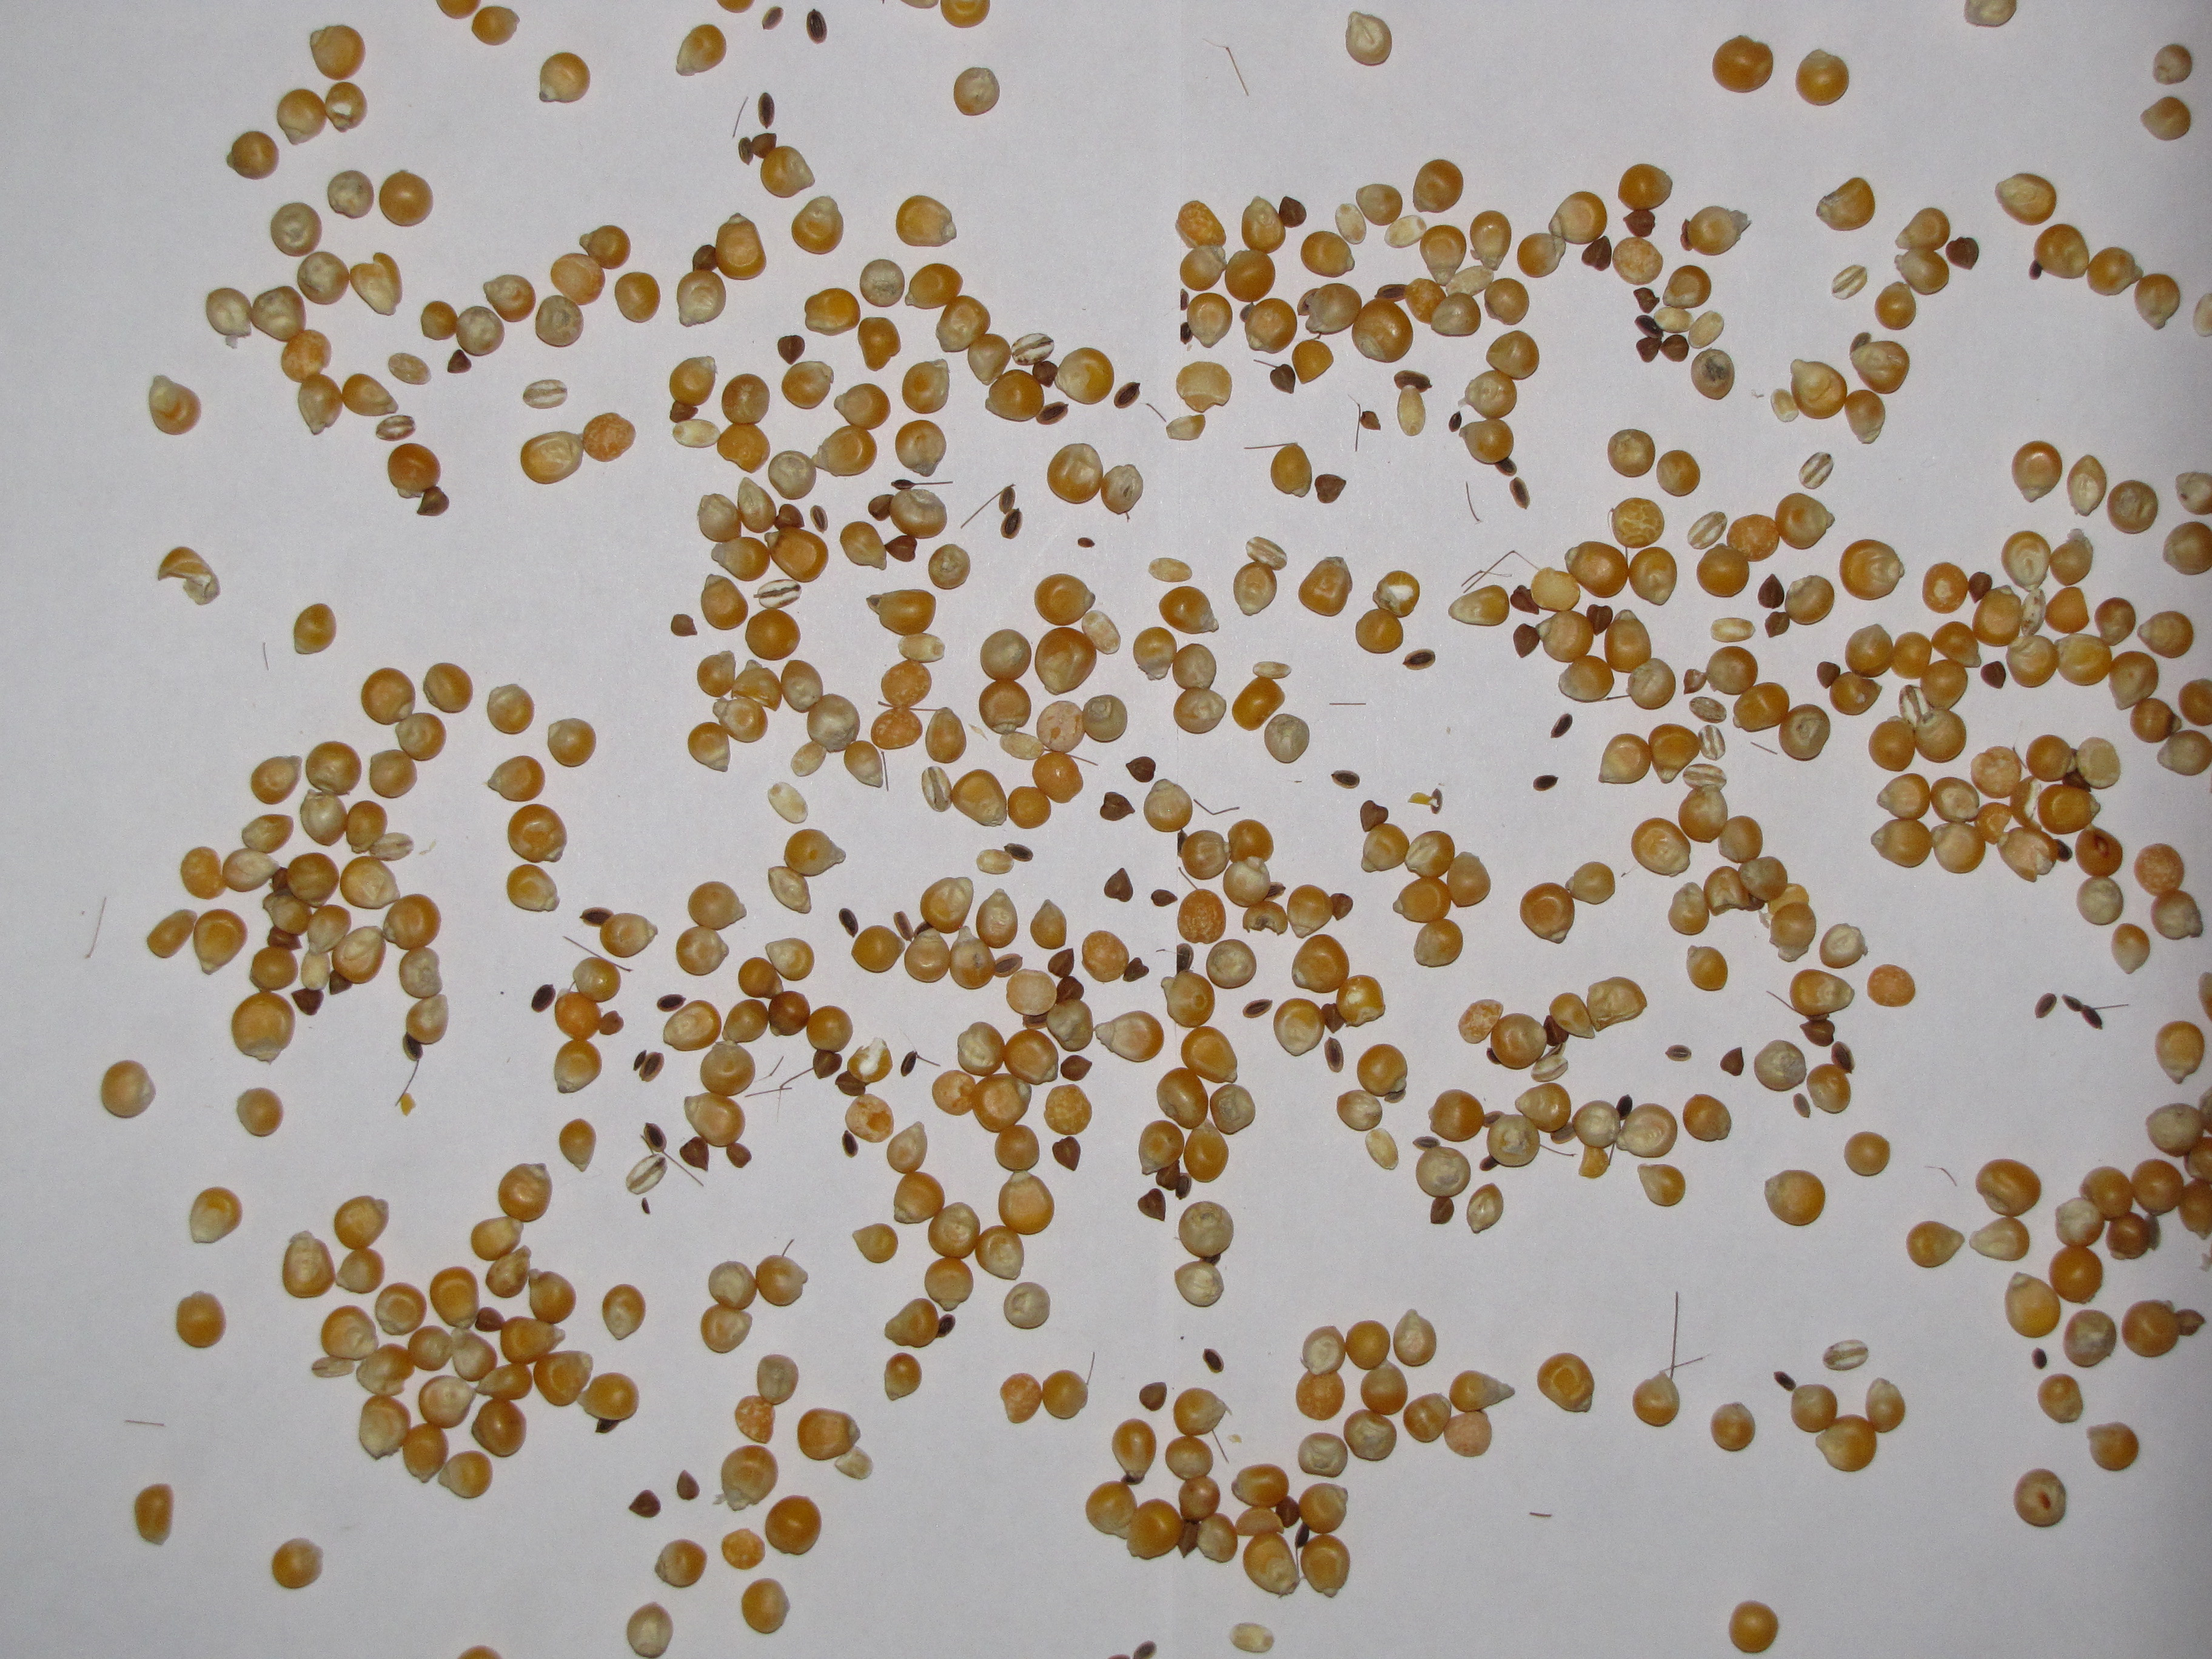mais: (1244, 443, 1312, 498), (1177, 868, 1226, 945), (158, 547, 221, 606), (1176, 361, 1233, 413), (1158, 586, 1219, 634), (2106, 479, 2158, 535), (270, 202, 322, 258), (740, 1577, 791, 1635), (895, 420, 946, 477), (1905, 1220, 1965, 1269), (1754, 1039, 1806, 1093), (700, 573, 749, 631), (1447, 584, 1510, 627), (538, 52, 590, 105), (1413, 159, 1463, 213), (902, 359, 951, 415), (805, 288, 860, 336), (676, 24, 726, 77), (423, 662, 474, 714), (1205, 939, 1258, 990), (482, 274, 536, 322), (780, 361, 834, 410), (507, 864, 561, 913), (1299, 230, 1355, 277), (1345, 10, 1392, 66), (1393, 369, 1432, 437), (488, 756, 545, 802), (1393, 1309, 1437, 1368), (547, 718, 597, 769), (2066, 455, 2107, 516), (486, 683, 535, 735), (655, 1539, 707, 1588), (1043, 1084, 1092, 1136), (601, 1284, 646, 1340), (1683, 1094, 1731, 1143), (1608, 429, 1656, 477), (327, 169, 374, 220), (953, 66, 1000, 117), (857, 317, 900, 371), (1691, 347, 1735, 401), (2141, 96, 2191, 141), (1818, 924, 1869, 969), (1710, 1401, 1756, 1452), (1264, 713, 1310, 763), (2038, 1373, 2083, 1424), (1298, 1432, 1348, 1478), (615, 272, 660, 322), (293, 603, 336, 655), (859, 260, 906, 307), (1003, 1283, 1050, 1330), (1637, 1162, 1686, 1208), (1656, 450, 1702, 497), (1355, 183, 1404, 227), (1867, 964, 1916, 1007), (559, 1119, 597, 1173), (1844, 1131, 1890, 1176), (2111, 924, 2151, 974), (928, 544, 970, 591), (1686, 945, 1728, 992), (472, 5, 521, 45), (1029, 899, 1068, 950), (852, 1223, 899, 1263), (885, 1352, 923, 1401), (1467, 1183, 1503, 1234), (1688, 511, 1728, 551), (2062, 993, 2102, 1030), (1254, 359, 1296, 394), (1355, 404, 1381, 451), (1710, 617, 1756, 643), (1226, 47, 1249, 96), (1148, 558, 1193, 582), (1946, 237, 1979, 270), (1099, 791, 1136, 821), (2038, 566, 2066, 605), (900, 1051, 941, 1077), (1165, 415, 1205, 441), (1104, 868, 1134, 903), (1052, 1136, 1082, 1171), (1757, 573, 1785, 610), (1689, 695, 1726, 723), (376, 415, 415, 441), (1313, 474, 1346, 504), (1407, 788, 1444, 814), (740, 523, 779, 547), (1137, 1188, 1165, 1222), (629, 1490, 660, 1518), (777, 335, 805, 364), (1139, 1382, 1167, 1412), (1125, 756, 1157, 782), (1061, 1054, 1092, 1080), (2034, 620, 2069, 643), (1113, 382, 1141, 410), (1719, 1047, 1745, 1077), (1973, 786, 2010, 807), (1324, 1037, 1345, 1073), (1402, 648, 1435, 671), (1193, 800, 1240, 816), (1980, 660, 2006, 688), (806, 9, 827, 44), (678, 1469, 700, 1500), (1587, 629, 1608, 662), (1510, 476, 1531, 509), (1634, 288, 1660, 314), (531, 985, 556, 1012), (890, 479, 953, 490), (1242, 999, 1273, 1019), (758, 92, 775, 129), (838, 908, 859, 938), (448, 349, 472, 373), (1550, 713, 1573, 739), (2034, 993, 2057, 1019), (671, 613, 697, 636), (657, 993, 686, 1012), (1331, 770, 1360, 789), (761, 5, 784, 30), (1202, 1349, 1224, 1373), (810, 505, 829, 533), (841, 1129, 859, 1159), (1792, 1093, 1811, 1119), (1151, 889, 1177, 908), (1773, 1371, 1796, 1391), (1533, 775, 1559, 791), (2130, 1197, 2148, 1220), (1146, 403, 1165, 422), (941, 931, 958, 951), (2003, 816, 2022, 833), (1750, 742, 1777, 755), (632, 1049, 646, 1070), (881, 751, 888, 791), (1449, 411, 1461, 432), (768, 1060, 782, 1077), (333, 103, 352, 115), (1298, 1546, 1305, 1577), (1662, 331, 1679, 343), (1078, 537, 1096, 547), (641, 1197, 650, 1215), (1308, 1530, 1320, 1540), (1329, 702, 1366, 706), (1529, 1513, 1552, 1518), (723, 690, 732, 701), (571, 983, 578, 993), (1965, 821, 1975, 826)
